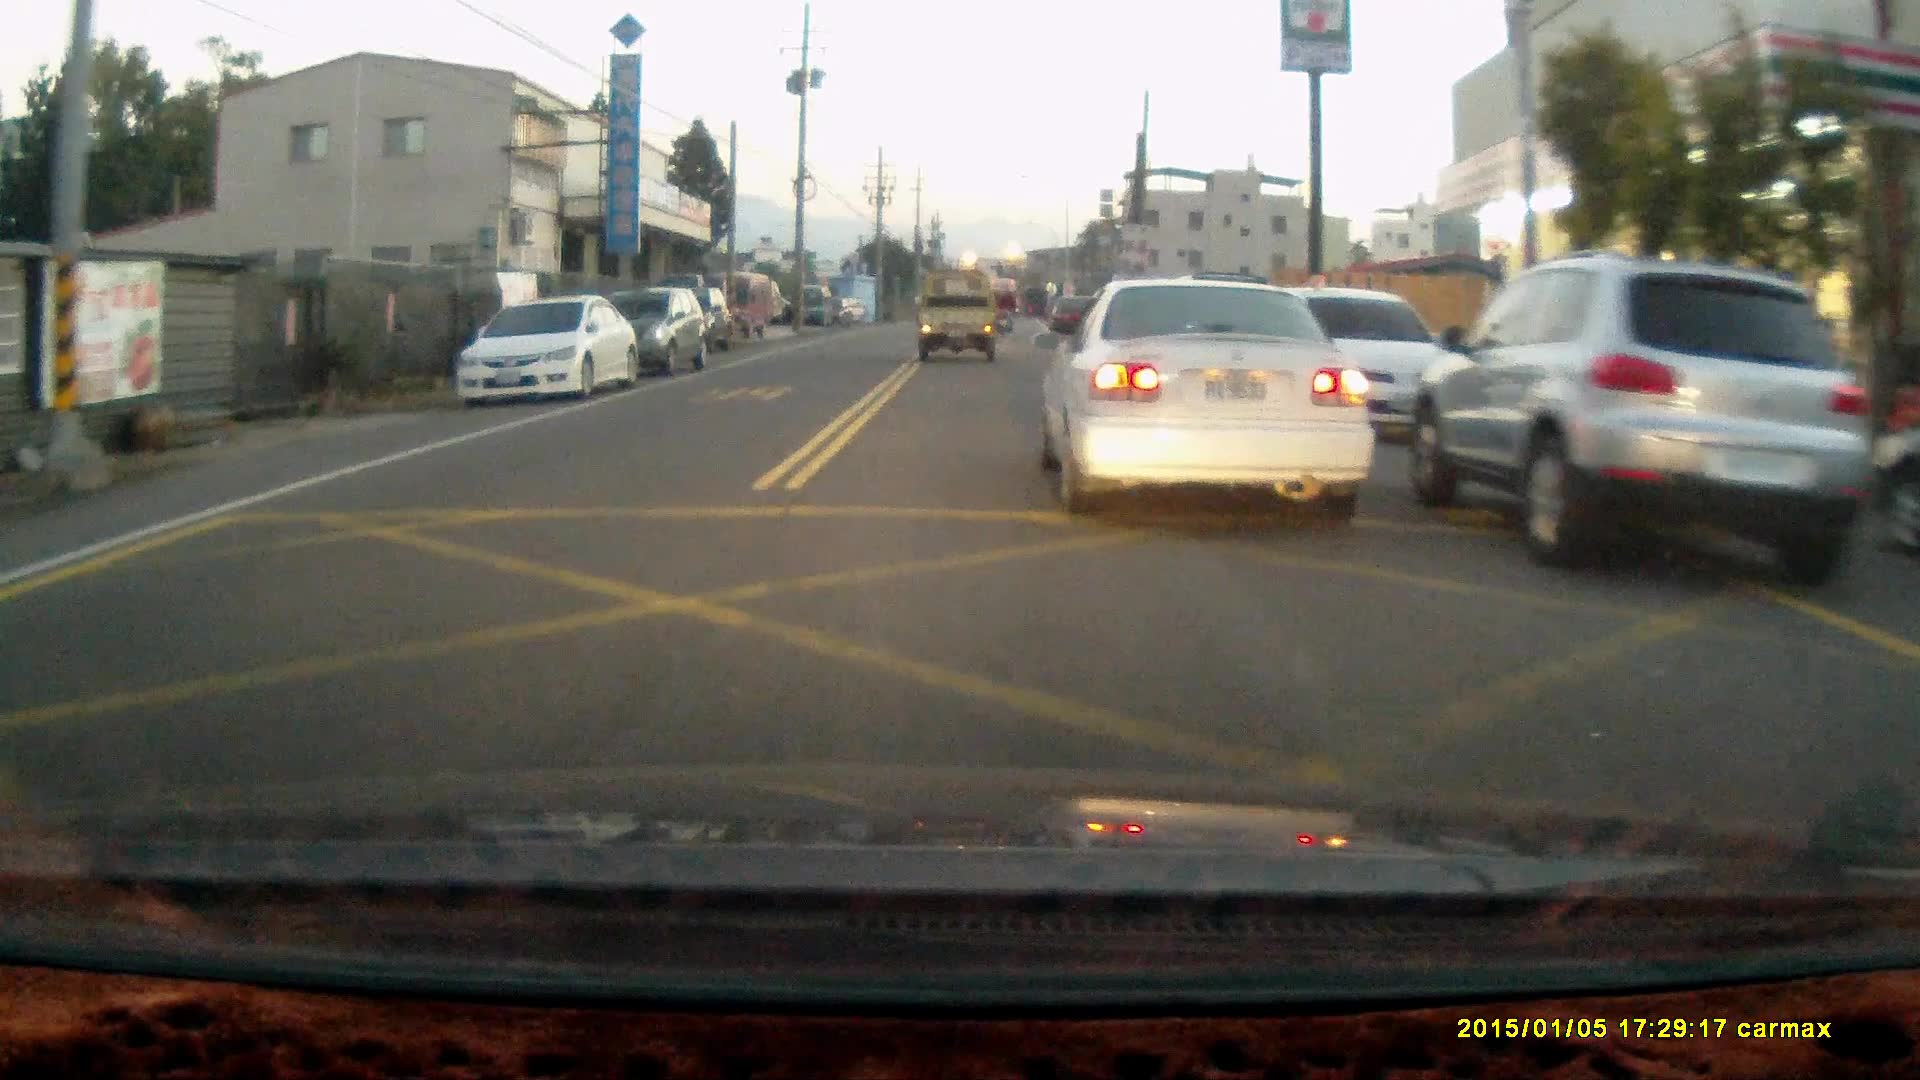rider: (990, 286, 1016, 335)
vehicle: (1406, 263, 1878, 588), (1044, 278, 1376, 517), (456, 295, 637, 415), (594, 294, 711, 384), (916, 270, 1003, 366), (633, 283, 735, 360), (715, 272, 780, 341)
